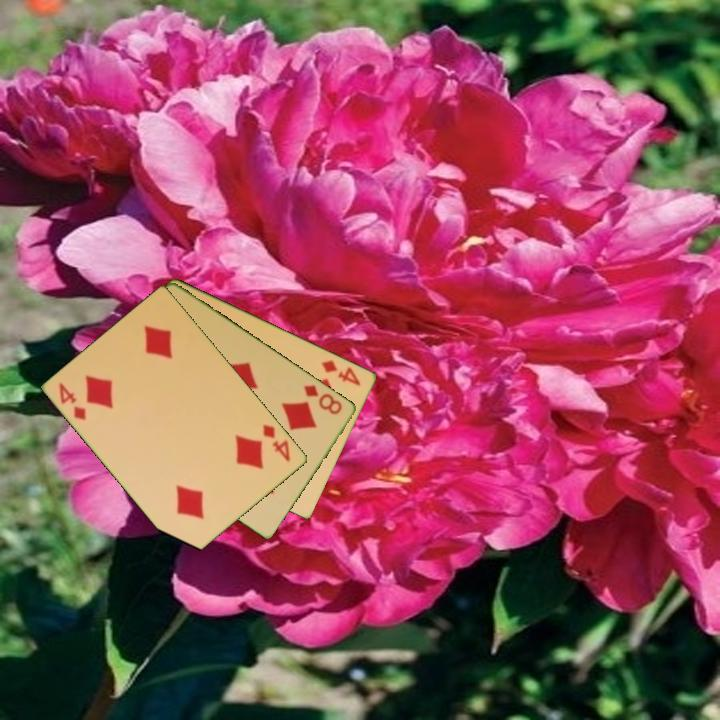4d: (259, 420, 294, 465), (318, 356, 364, 389), (55, 379, 89, 423)
8d: (300, 381, 346, 418)
